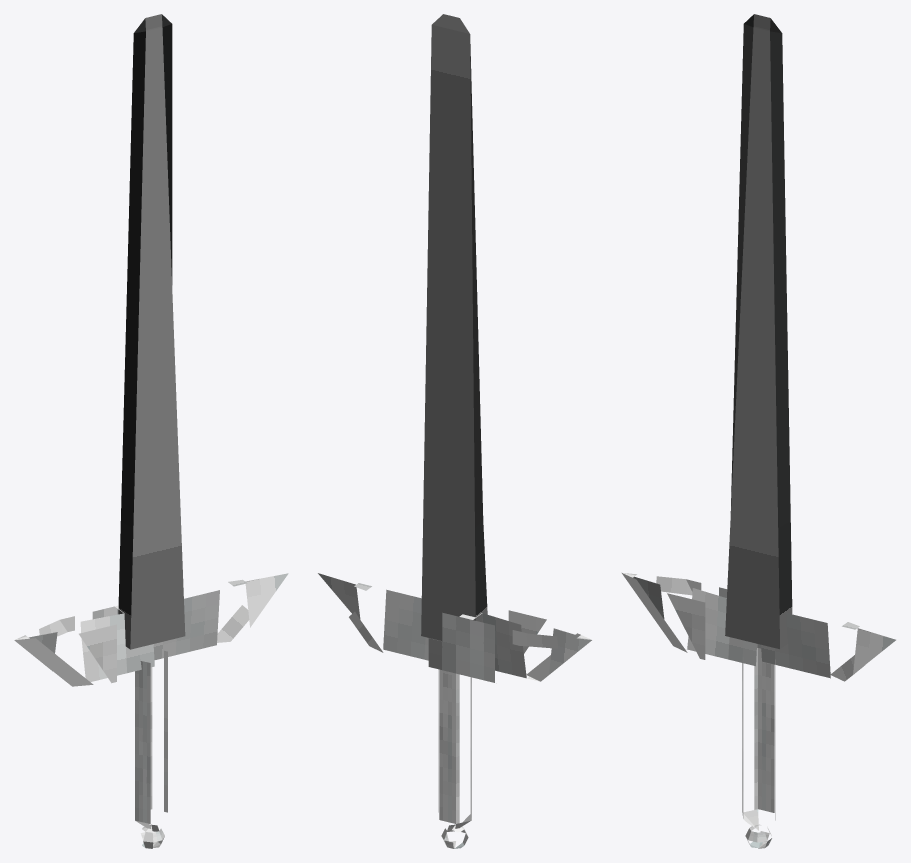
Rendered from SWORD_1.obj.
3 views of the same model, side by side, from view 1: azimuth 30°, elevation 25°; view 2: azimuth 150°, elevation 25°; view 3: azimuth 330°, elevation 25° (orthographic).
Visible parts, largest first — view 1: mesh, sphere; view 2: mesh, sphere; view 3: mesh, sphere.
Part boxes in pixels (x1,y1,x2,y2): mesh: [14, 14, 288, 686]; sphere: [135, 650, 167, 848]; mesh: [318, 14, 591, 682]; sphere: [438, 669, 471, 848]; mesh: [621, 14, 895, 681]; sphere: [742, 648, 775, 848].
Bounding box in the file's own units: 0.3125 × 0.9031 × 0.0375.
4 materials, 4 textured.
